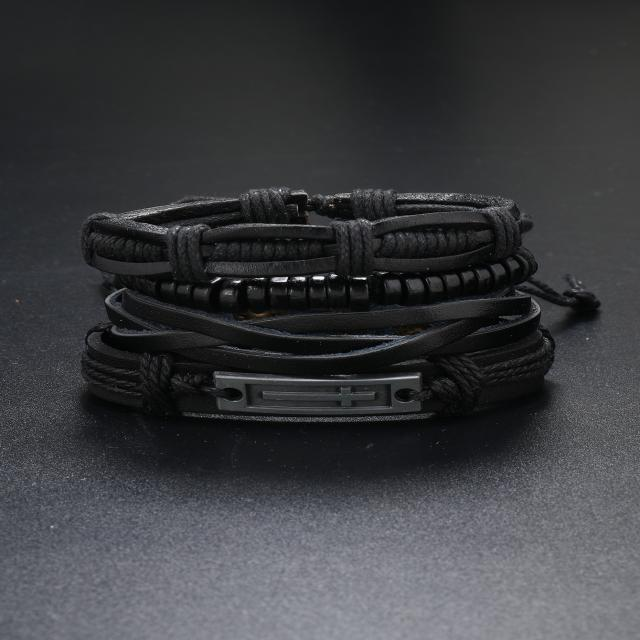bracelet: (29, 136, 638, 482)
